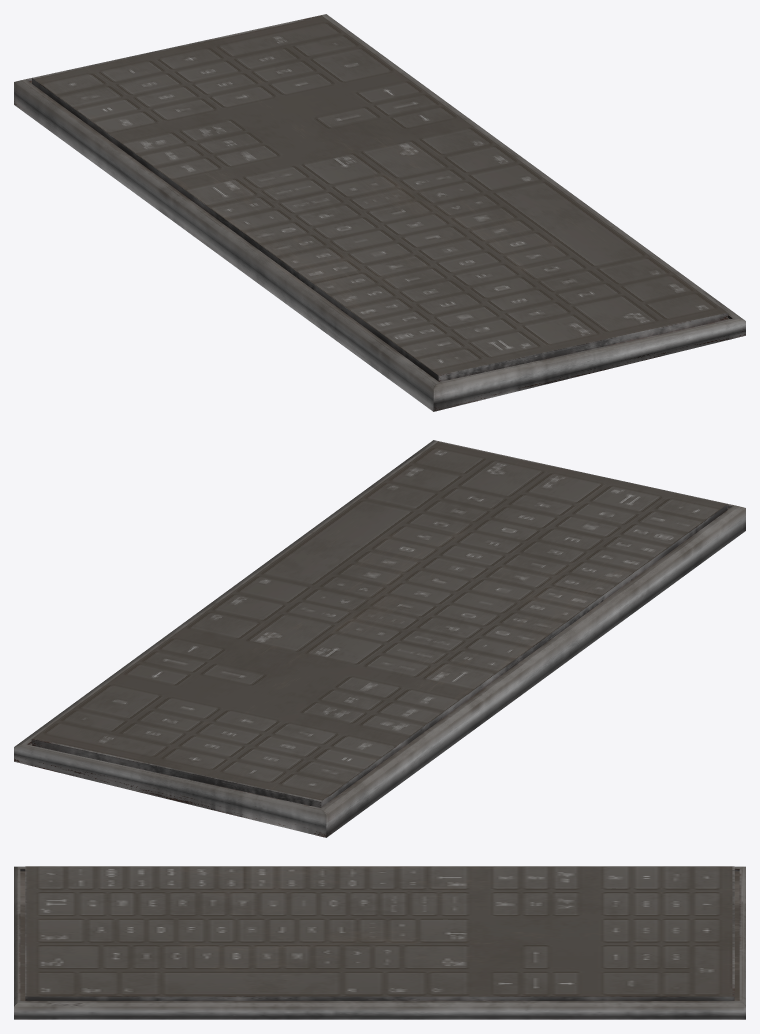
Rendered from computer_keyboard_fef52ffd.glb.
3 views of the same model, one above another, from view 1: azimuth 30°, elevation 25°; view 2: azimuth 150°, elevation 25°; view 3: azimuth 270°, elevation 25° (orthographic). The views are drawn at different scales.
Visible parts, largest first — view 1: Cube; view 2: Cube; view 3: Cube.
Boxes of the visible parts, x1,y1,x2,y2 form: Cube: [14, 14, 745, 411]; Cube: [14, 440, 745, 837]; Cube: [14, 866, 745, 1019].
Bounding box in the file's own units: 28.98 × 2.7 × 67.4.
1 material, 1 textured.
